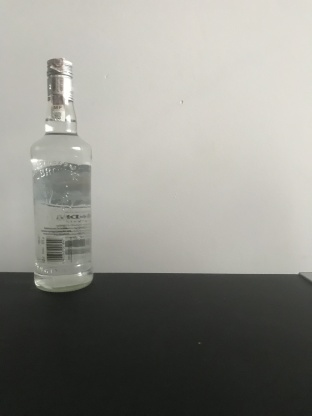nakretka: (45, 55, 75, 102)
